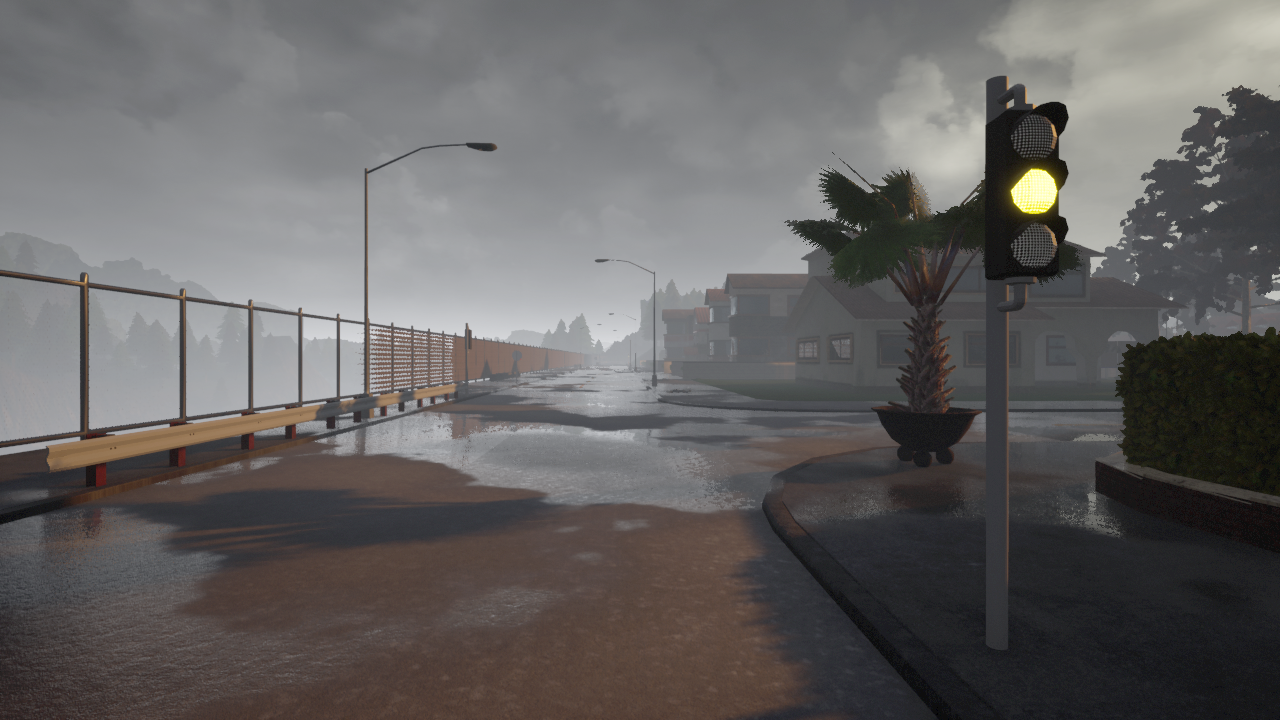yellow: (982, 103, 1070, 276)
